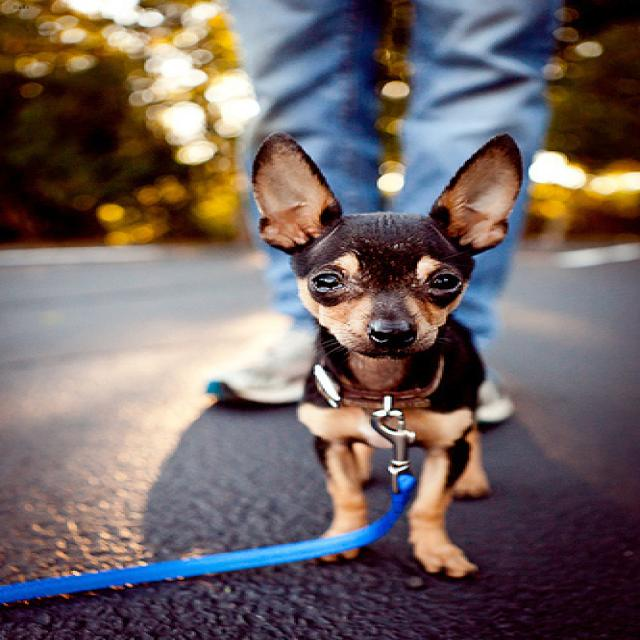dog-chihuahua: (200, 125, 532, 588)
